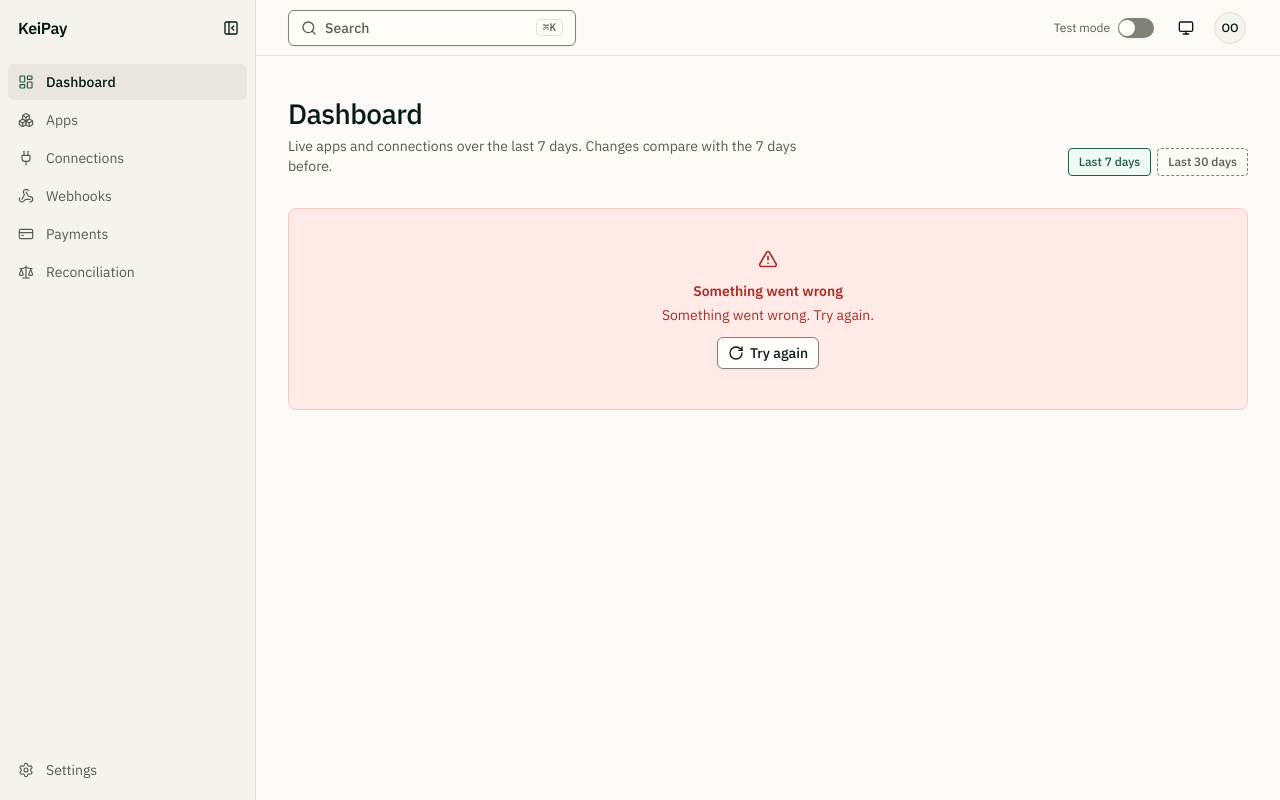
Test case: Dashboard page › shows the error state with a working Try again
Expected: the message with test id "error-state" does not show "boom", [288, 208, 1248, 410]
Step 1. Click the button "Try again" → (768, 353), box [717, 337, 819, 369]
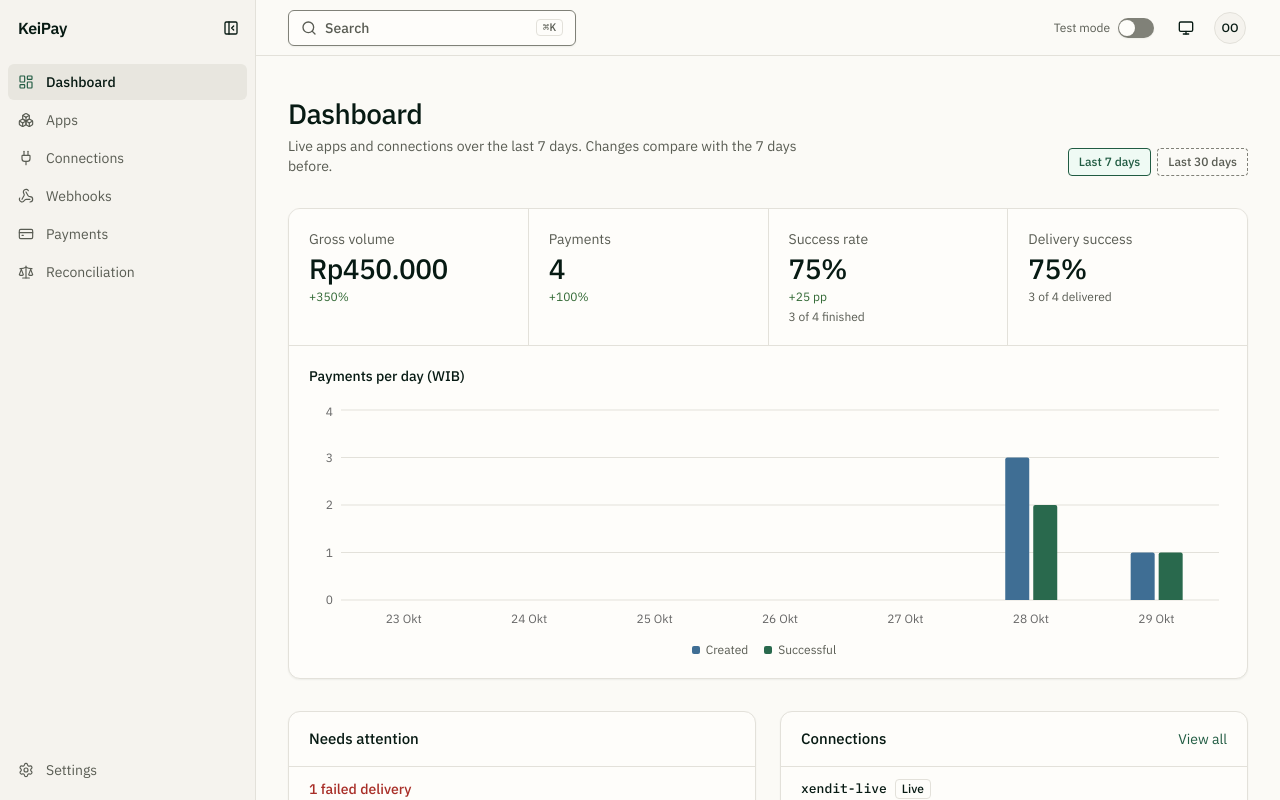
Expected: the text "Gross volume" is shown, [309, 230, 395, 248]
Expected: the message with test id "error-state" is gone
